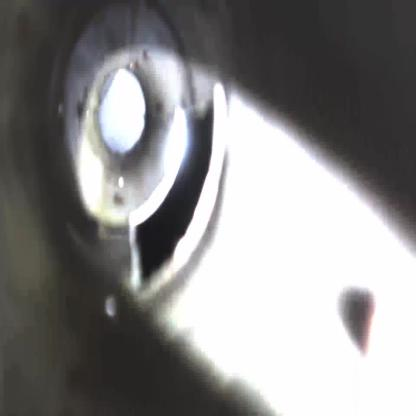Crack2: (126, 96, 219, 295)
